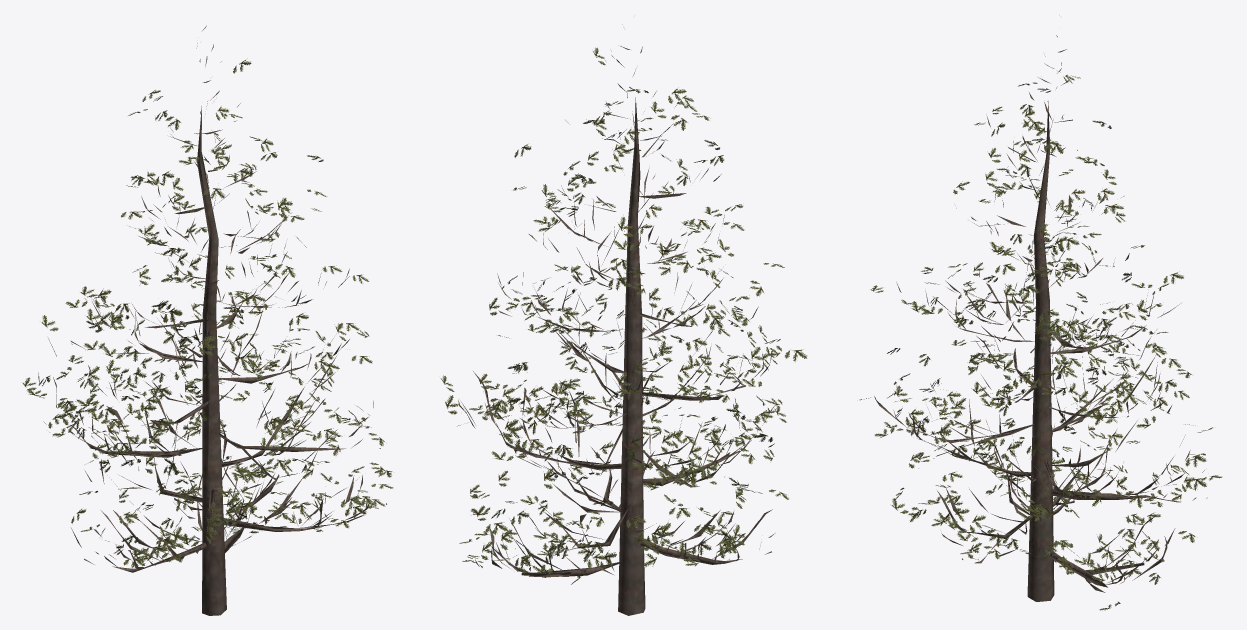
The model's file is pino1.glb.
3 renders of one model, left to right at view 1: azimuth 30°, elevation 25°; view 2: azimuth 150°, elevation 25°; view 3: azimuth 270°, elevation 25°, orthographic. The views are drawn at different scales.
Parts seen in each view (by area): view 1: hojas, tronco; view 2: hojas, tronco; view 3: hojas, tronco.
Part boxes in pixels (x1,y1,x2,y2): hojas: (22, 58, 393, 568); tronco: (38, 25, 386, 615); hojas: (440, 47, 807, 584); tronco: (458, 24, 775, 615); hojas: (859, 63, 1222, 610); tronco: (874, 35, 1207, 603).
Bounding box in the file's own units: 2.6 × 4.66 × 2.83.
2 materials, 2 textured.
